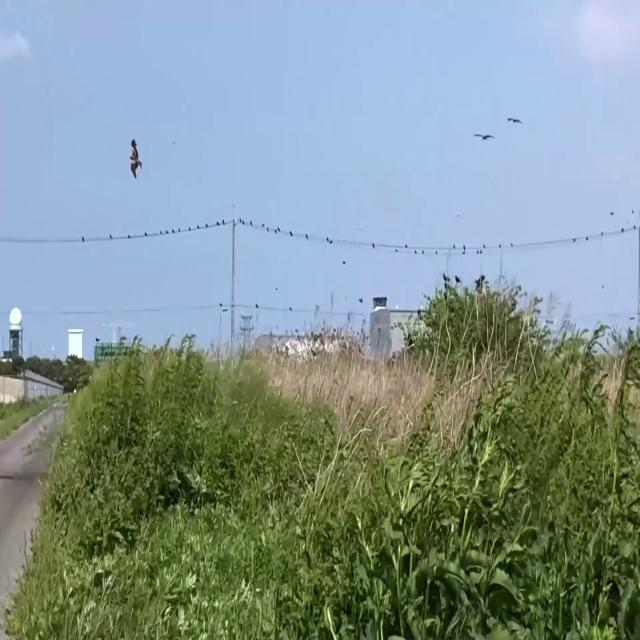bird: (473, 117, 495, 152), (506, 105, 522, 134)
